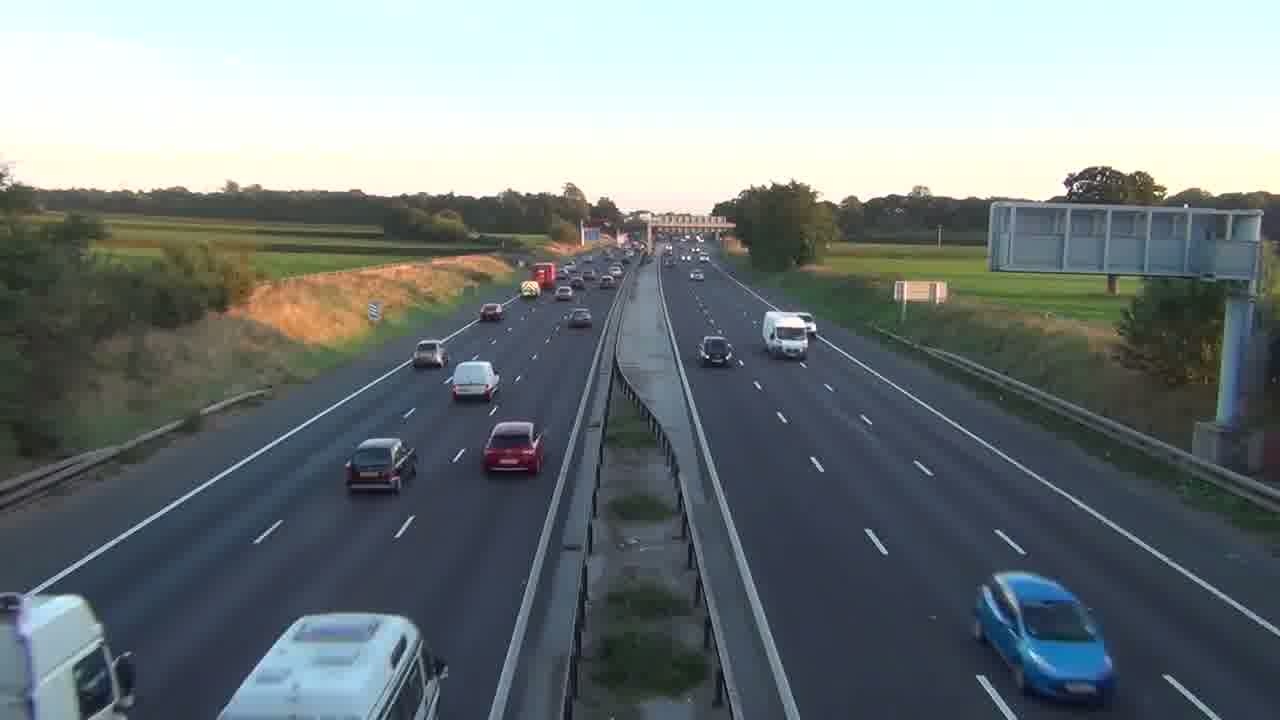car: (217, 611, 449, 718), (973, 569, 1121, 707), (481, 419, 547, 476), (481, 420, 546, 477), (446, 360, 501, 401), (697, 335, 734, 366), (413, 338, 449, 369), (563, 307, 592, 329)
truck: (0, 591, 136, 719), (760, 310, 812, 359)
